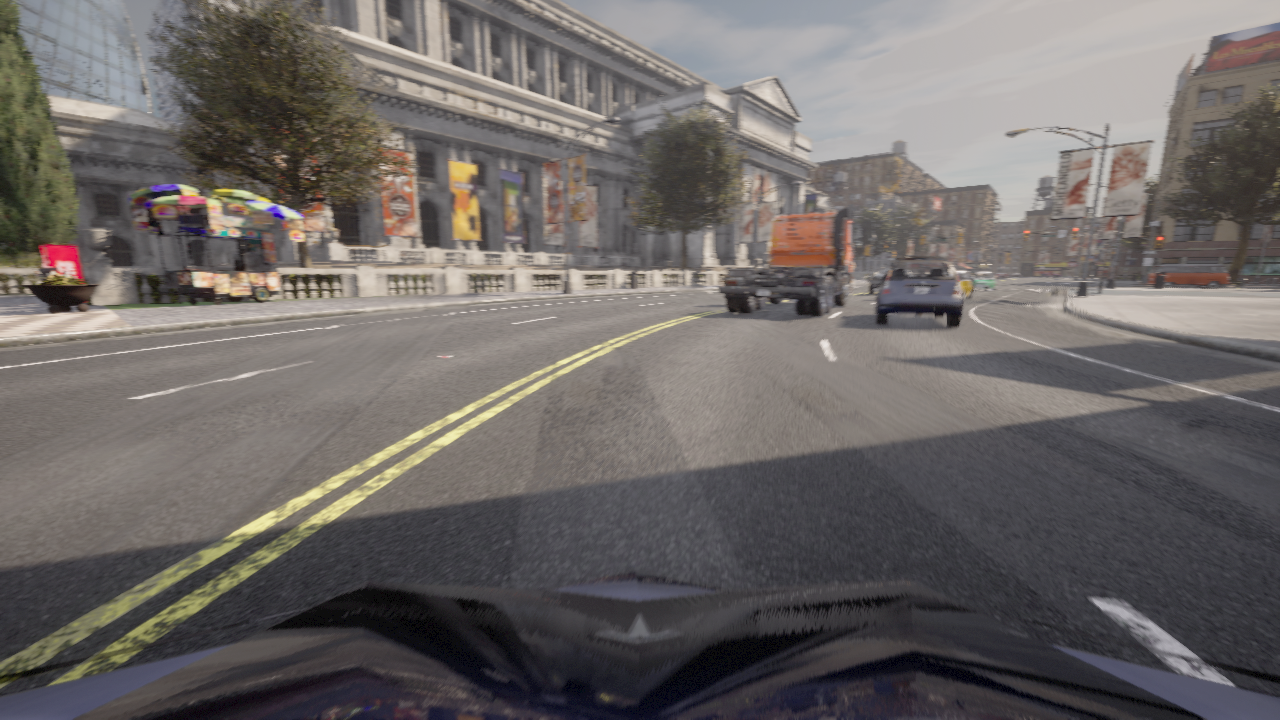cyclist: (0, 569, 1279, 719), (719, 207, 862, 316), (876, 256, 964, 327), (1148, 264, 1230, 288), (972, 271, 997, 291), (869, 268, 888, 294), (957, 270, 974, 298), (1008, 273, 1022, 277), (994, 273, 1007, 277), (967, 271, 974, 277), (1048, 273, 1055, 277), (1042, 273, 1048, 276), (1054, 274, 1060, 277)
